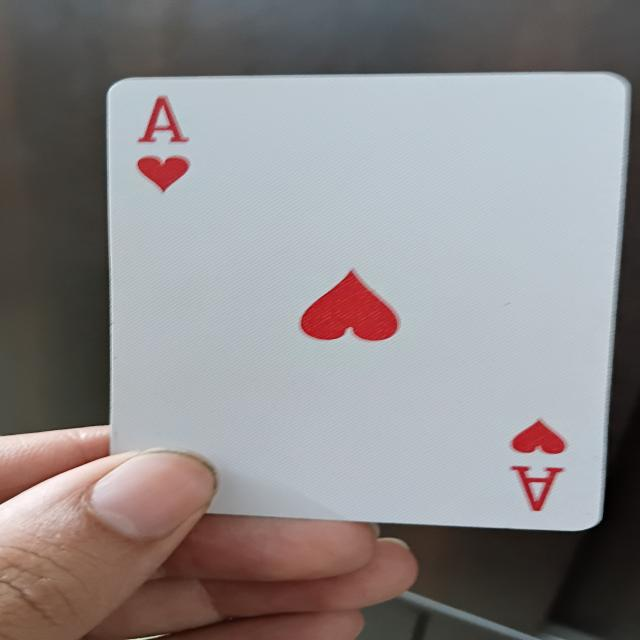AH: (98, 72, 622, 534)
